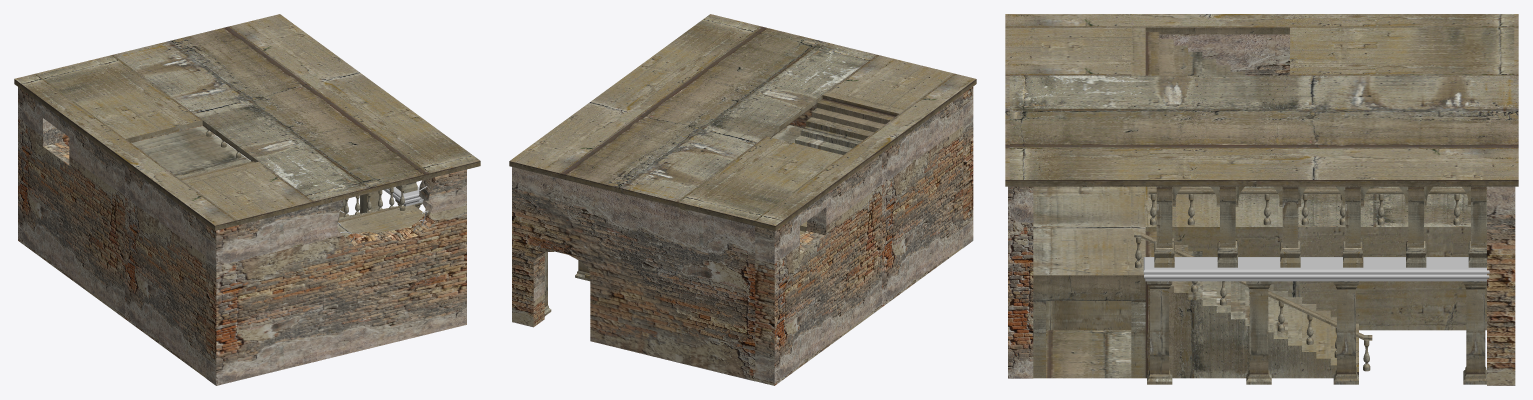
Rendered from Meszki.fbx.
3 views of the same model, side by side, from view 1: azimuth 30°, elevation 25°; view 2: azimuth 150°, elevation 25°; view 3: azimuth 270°, elevation 25° (orthographic). The views are drawn at different scales.
Visible parts, largest first — view 1: Cube.007, Cube.002, Cube.005, L Platform, Cube; view 2: Cube.007, Cube.006, Cube.005, Stairs001.001, Cube.002, Cube; view 3: Cube.007, L Platform, Stairs001, Cube.001, Cube.006, Cube.002, Cube.005, Stairs001.001, Cube.004, Pillar001.001, Pillar001, Cube.003 (+9 smaller).
Part boxes in pixels (<box>): Cube.007: <box>14,14,480,230</box>; Cube.002: <box>206,169,466,385</box>; Cube.005: <box>18,87,206,377</box>; L Platform: <box>131,126,424,237</box>; Cube: <box>182,161,263,184</box>; Cube.007: <box>509,14,976,230</box>; Cube.006: <box>512,167,755,381</box>; Cube.005: <box>755,94,963,385</box>; Stairs001.001: <box>795,99,895,235</box>; Cube.002: <box>789,87,973,247</box>; Cube: <box>822,91,904,116</box>; Cube.007: <box>1005,14,1518,186</box>; L Platform: <box>1033,186,1486,378</box>; Stairs001: <box>1145,231,1358,378</box>; Cube.001: <box>1143,257,1489,281</box>; Cube.006: <box>1487,186,1515,385</box>; Cube.002: <box>1008,186,1033,378</box>; Cube.005: <box>1159,34,1289,75</box>; Stairs001.001: <box>1145,32,1244,75</box>; Cube.004: <box>1246,281,1271,384</box>; Pillar001.001: <box>1463,281,1486,384</box>; Pillar001: <box>1333,281,1358,384</box>; Cube.003: <box>1147,281,1172,384</box>.
Bounding box in the file's own units: 8.29 × 4.81 × 10.83.
